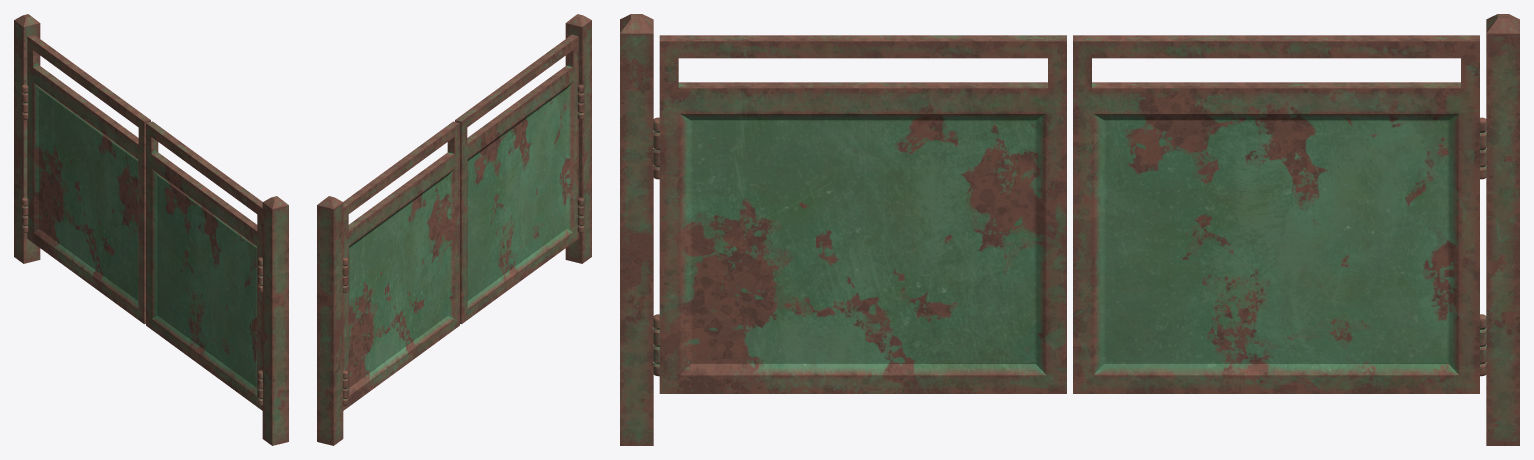
File: uploads_files_4683602_cgtrader_optimized_Old+Metal+Gate.fbx
The picture shows the model from 3 angles, left to right: view 1: azimuth 30°, elevation 25°; view 2: azimuth 150°, elevation 25°; view 3: azimuth 270°, elevation 25°; orthographic projection. The views are drawn at different scales.
Visible parts, largest first — view 1: Old Metal Gate; view 2: Old Metal Gate; view 3: Old Metal Gate.
Part boxes in pixels (x1,y1,x2,y2): Old Metal Gate: (14,14,288,445); Old Metal Gate: (317,14,591,445); Old Metal Gate: (620,14,1519,445).
Size of the model in its own units: 0.418 by 4.92 by 9.49.
